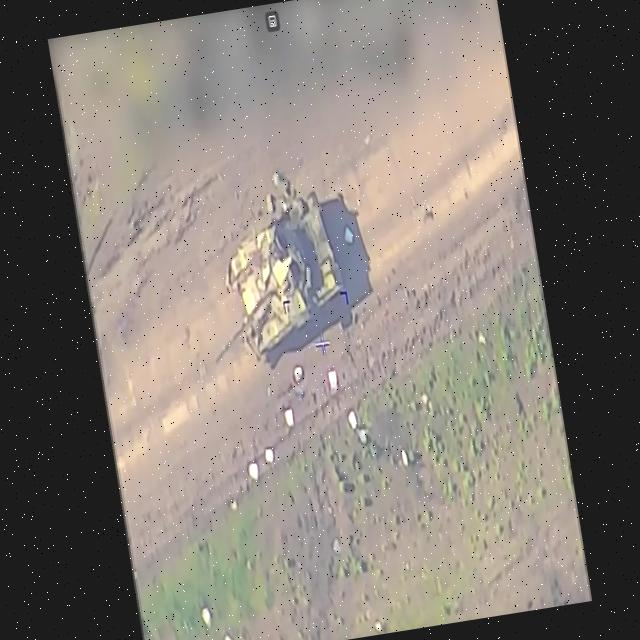MBT: (188, 187, 359, 371)
